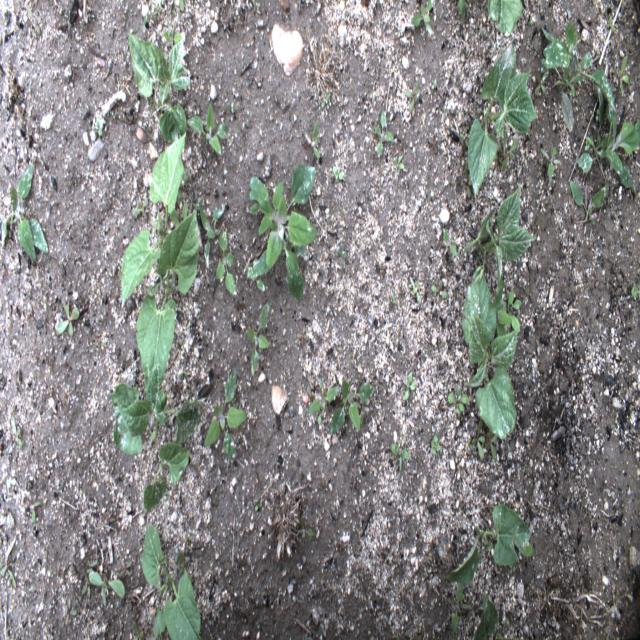crop: (136, 208, 199, 399), (121, 131, 187, 310), (467, 41, 540, 201), (462, 266, 518, 439), (109, 362, 203, 454), (460, 187, 538, 284), (444, 502, 534, 584), (128, 32, 192, 144), (141, 523, 201, 639), (142, 441, 191, 512), (488, 0, 524, 36), (473, 594, 499, 638)
weed: (245, 163, 321, 305), (540, 22, 616, 145), (576, 112, 640, 196), (1, 158, 48, 265), (203, 364, 248, 464), (328, 374, 375, 435), (183, 101, 230, 156), (494, 267, 523, 341), (198, 202, 228, 270), (245, 301, 270, 378), (569, 180, 611, 225), (305, 379, 340, 427), (216, 225, 236, 296), (88, 571, 125, 608), (451, 579, 472, 635), (496, 131, 520, 169), (1, 535, 17, 589), (374, 111, 392, 158), (57, 301, 79, 336), (390, 435, 410, 473), (540, 147, 561, 182), (614, 52, 630, 96), (410, 0, 434, 28), (306, 123, 322, 158), (448, 387, 468, 414), (405, 79, 421, 112), (471, 421, 484, 458), (10, 413, 23, 448), (485, 428, 497, 461), (409, 274, 422, 304), (431, 279, 446, 304), (404, 372, 416, 401), (431, 432, 440, 456)
